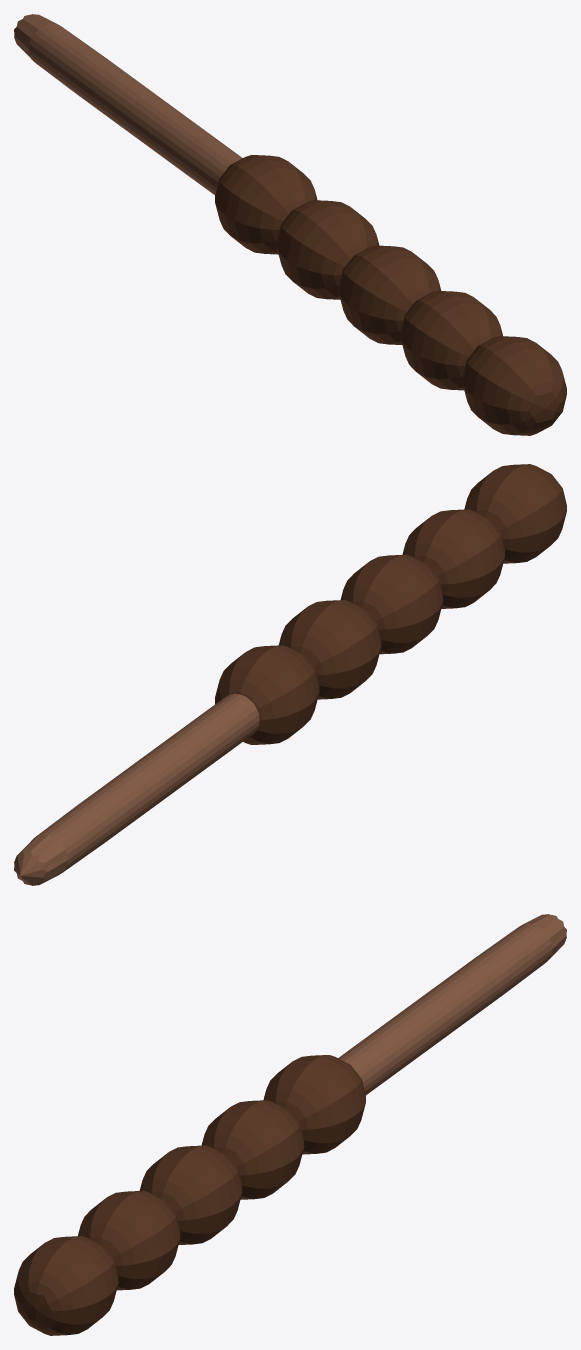
Rendered from Wand 7.glb.
3 views of the same model, one above another, from view 1: azimuth 30°, elevation 25°; view 2: azimuth 150°, elevation 25°; view 3: azimuth 330°, elevation 25° (orthographic).
Parts seen in each view (by area): view 1: GeneratedWand; view 2: GeneratedWand; view 3: GeneratedWand.
Part boxes in pixels (box(x1,y1,x2,y2)): GeneratedWand: box(14, 14, 566, 435); GeneratedWand: box(14, 464, 566, 885); GeneratedWand: box(14, 914, 566, 1335).
Bounding box in the file's own units: 0.0447 × 0.0449 × 0.4815.
